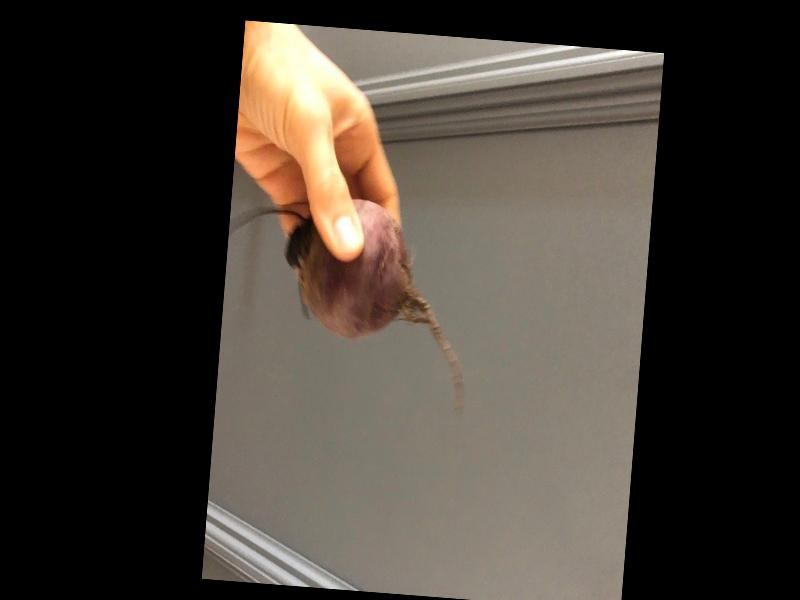Beet: (215, 190, 478, 417)
